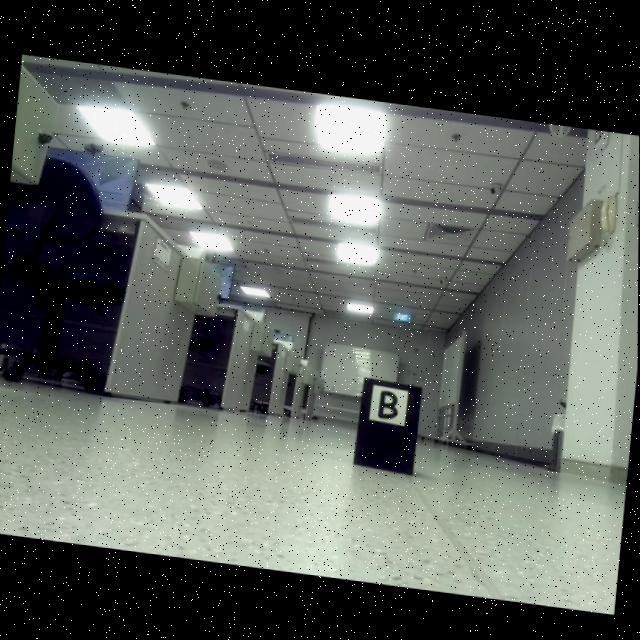B: (377, 386, 399, 416)
